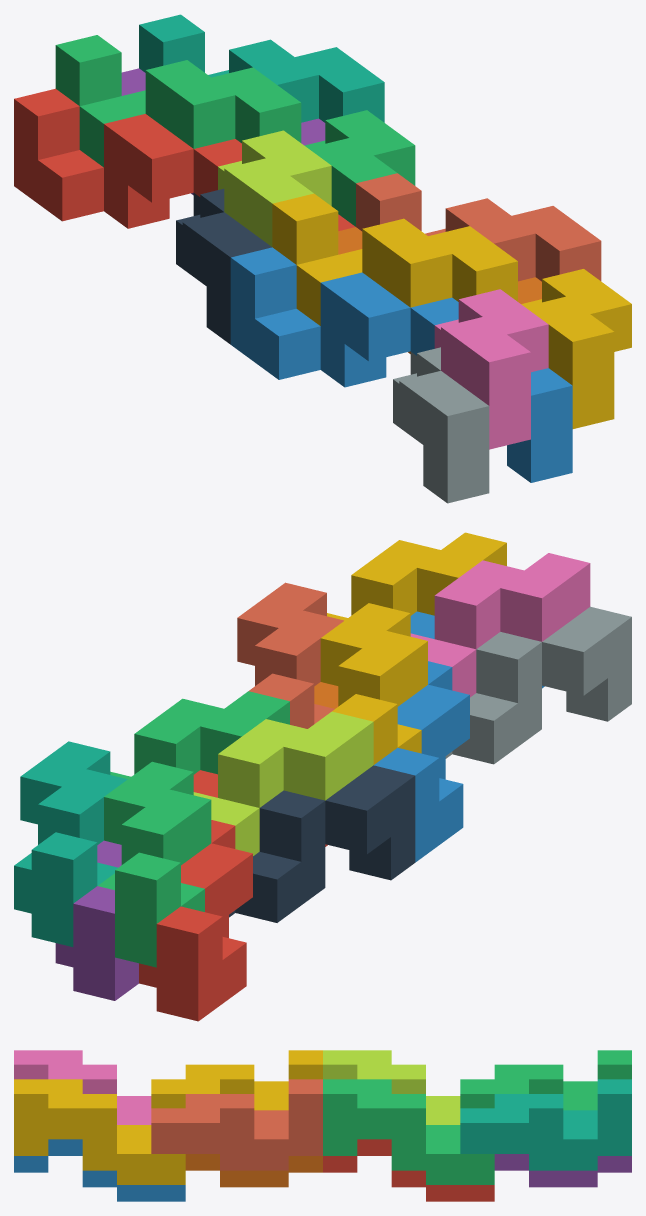
Rendered from tiling.obj.
The picture shows the model from 3 angles, top to bottom: view 1: azimuth 30°, elevation 25°; view 2: azimuth 150°, elevation 25°; view 3: azimuth 270°, elevation 25°; orthographic projection. The views are drawn at different scales.
Visible parts, largest first — view 1: copy_1_domain_2, copy_1_domain_1, copy_1_domain_3, copy_1_domain_4, copy_2_domain_4, copy_1_domain_8, copy_1_domain_7, copy_2_domain_8, copy_2_domain_2, copy_2_domain_3, copy_2_domain_1, copy_2_domain_7 (+3 smaller); view 2: copy_2_domain_1, copy_2_domain_2, copy_1_domain_3, copy_1_domain_7, copy_1_domain_1, copy_2_domain_4, copy_2_domain_3, copy_1_domain_4, copy_1_domain_8, copy_1_domain_2, copy_2_domain_7, copy_2_domain_8 (+1 smaller); view 3: copy_1_domain_7, copy_1_domain_8, copy_2_domain_7, copy_2_domain_8, copy_1_domain_3, copy_1_domain_4, copy_2_domain_3, copy_2_domain_4, copy_2_domain_5, copy_2_domain_6, copy_1_domain_5, copy_1_domain_6.
Part boxes in pixels (x1,y1,x2,y2): copy_1_domain_2: [230, 247, 458, 387]; copy_1_domain_1: [14, 88, 241, 228]; copy_1_domain_3: [55, 35, 301, 167]; copy_1_domain_4: [272, 193, 517, 325]; copy_2_domain_4: [434, 289, 548, 449]; copy_1_domain_8: [356, 173, 601, 281]; copy_1_domain_7: [139, 14, 384, 122]; copy_2_domain_8: [521, 269, 631, 428]; copy_2_domain_2: [393, 347, 489, 503]; copy_2_domain_3: [218, 130, 331, 246]; copy_2_domain_1: [176, 188, 271, 344]; copy_2_domain_7: [304, 110, 415, 226]; copy_2_domain_1: [229, 765, 415, 922]; copy_2_domain_2: [445, 606, 631, 764]; copy_1_domain_3: [98, 761, 211, 967]; copy_1_domain_7: [14, 741, 127, 946]; copy_1_domain_1: [139, 820, 252, 1021]; copy_2_domain_4: [410, 553, 590, 697]; copy_2_domain_3: [193, 711, 373, 855]; copy_1_domain_4: [320, 603, 427, 764]; copy_1_domain_8: [237, 582, 343, 728]; copy_1_domain_2: [374, 661, 469, 862]; copy_2_domain_7: [110, 691, 289, 779]; copy_2_domain_8: [327, 532, 506, 620]; copy_1_domain_7: [460, 1079, 631, 1170]; copy_1_domain_8: [151, 1079, 322, 1170]; copy_2_domain_7: [323, 1079, 494, 1184]; copy_2_domain_8: [14, 1079, 185, 1184]; copy_1_domain_3: [460, 1050, 631, 1110]; copy_1_domain_4: [151, 1050, 322, 1110]; copy_2_domain_3: [323, 1050, 460, 1124]; copy_2_domain_4: [14, 1050, 151, 1124]; copy_2_domain_5: [323, 1139, 494, 1201]; copy_2_domain_6: [14, 1139, 185, 1201]; copy_1_domain_5: [494, 1154, 631, 1187]; copy_1_domain_6: [185, 1154, 322, 1187].
Size of the model in its own units: 6 by 3 by 18.
